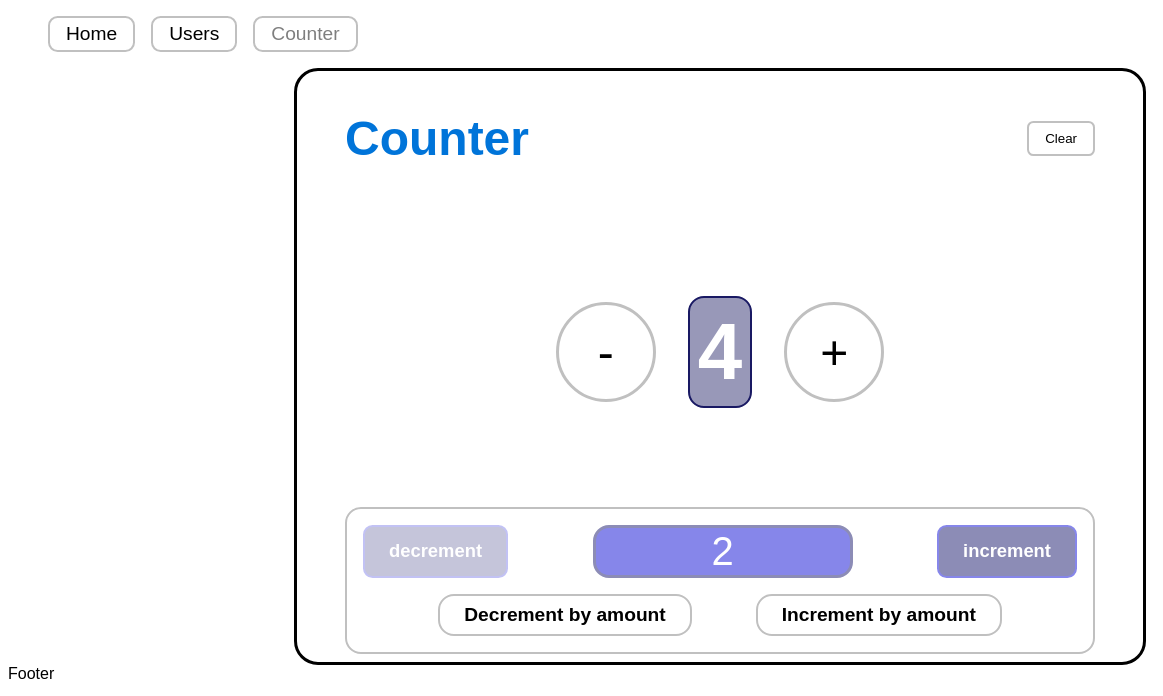
Test case: Test CounterTitle › Test counter-title__reset-btn › Verify reset button functionality › Case when value has changed by amount-buttons-box__decrement-btn › Default case
Check: the button with test id "counter-title__reset-btn" is enabled, box x1=1027 y1=121 x2=1095 y2=156
Check: the heading with test id "global-counter-value" reads "4", box x1=698 y1=307 x2=742 y2=396
Click the button with test id "amount-buttons-box__decrement-btn".
click(565, 615)  # box x1=438 y1=594 x2=692 y2=636
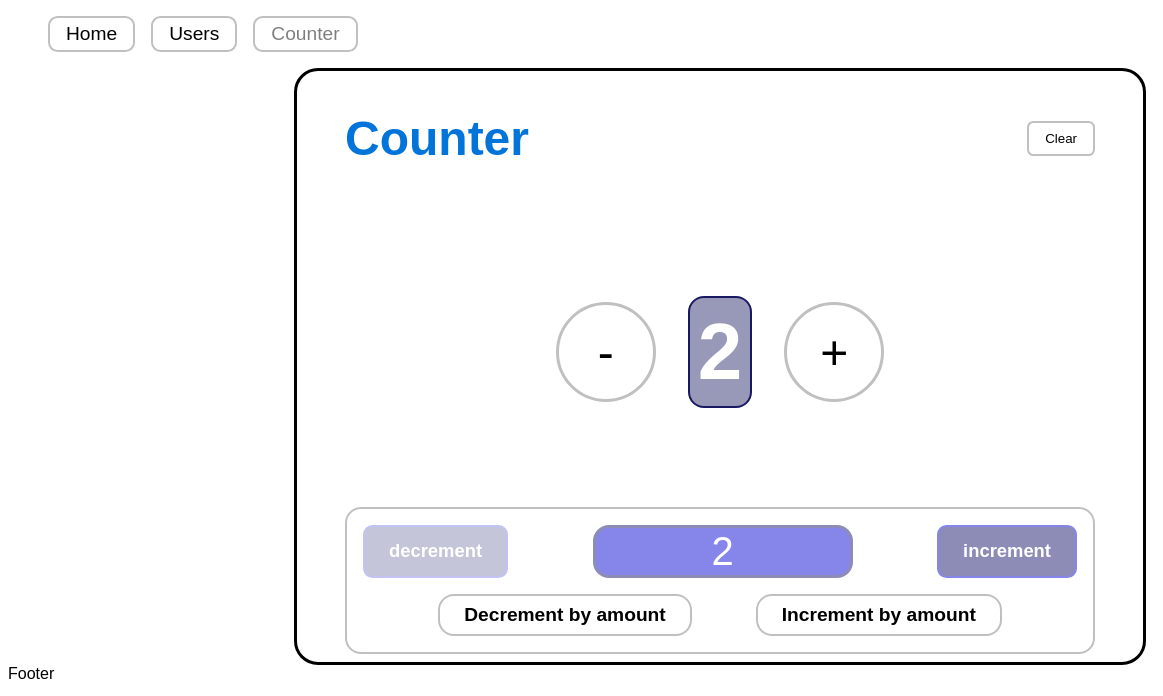
Check: the heading with test id "global-counter-value" reads "2", box x1=698 y1=307 x2=742 y2=396
Click the button with test id "counter-title__reset-btn".
click(1061, 138)  # box x1=1027 y1=121 x2=1095 y2=156
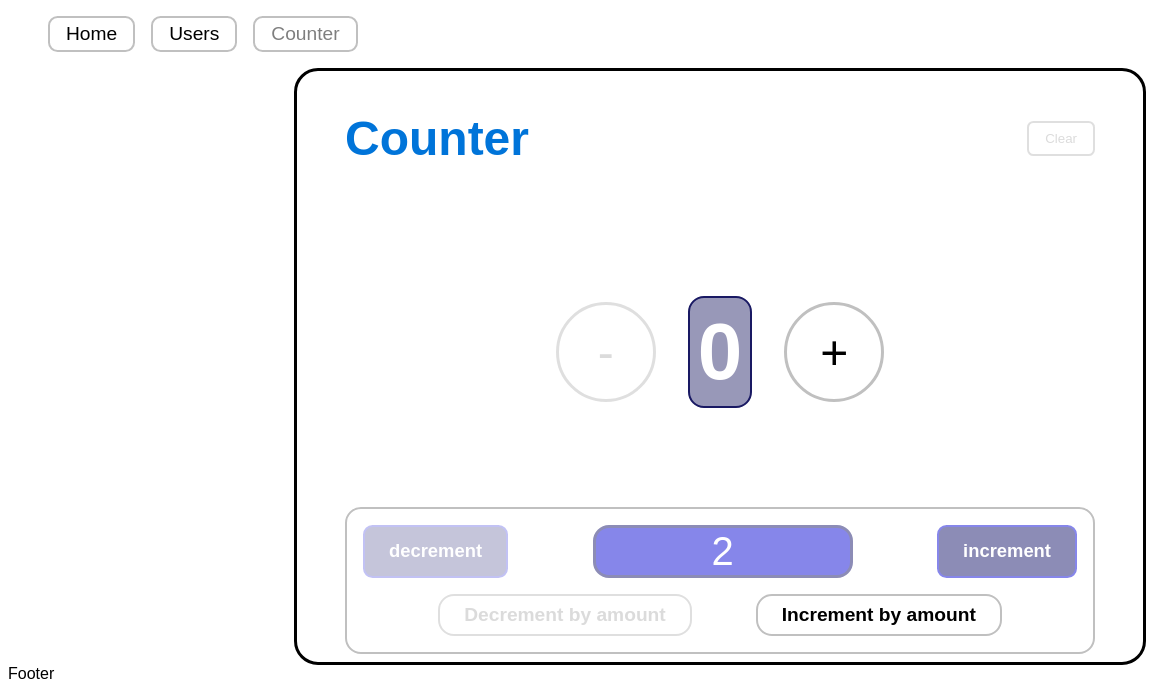
Check: the heading with test id "global-counter-value" reads "0", box x1=698 y1=307 x2=742 y2=396
Check: the button with test id "counter-title__reset-btn" is disabled, box x1=1027 y1=121 x2=1095 y2=156
